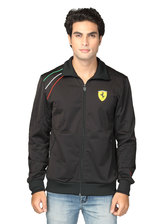clothoes: (25, 55, 140, 199)
